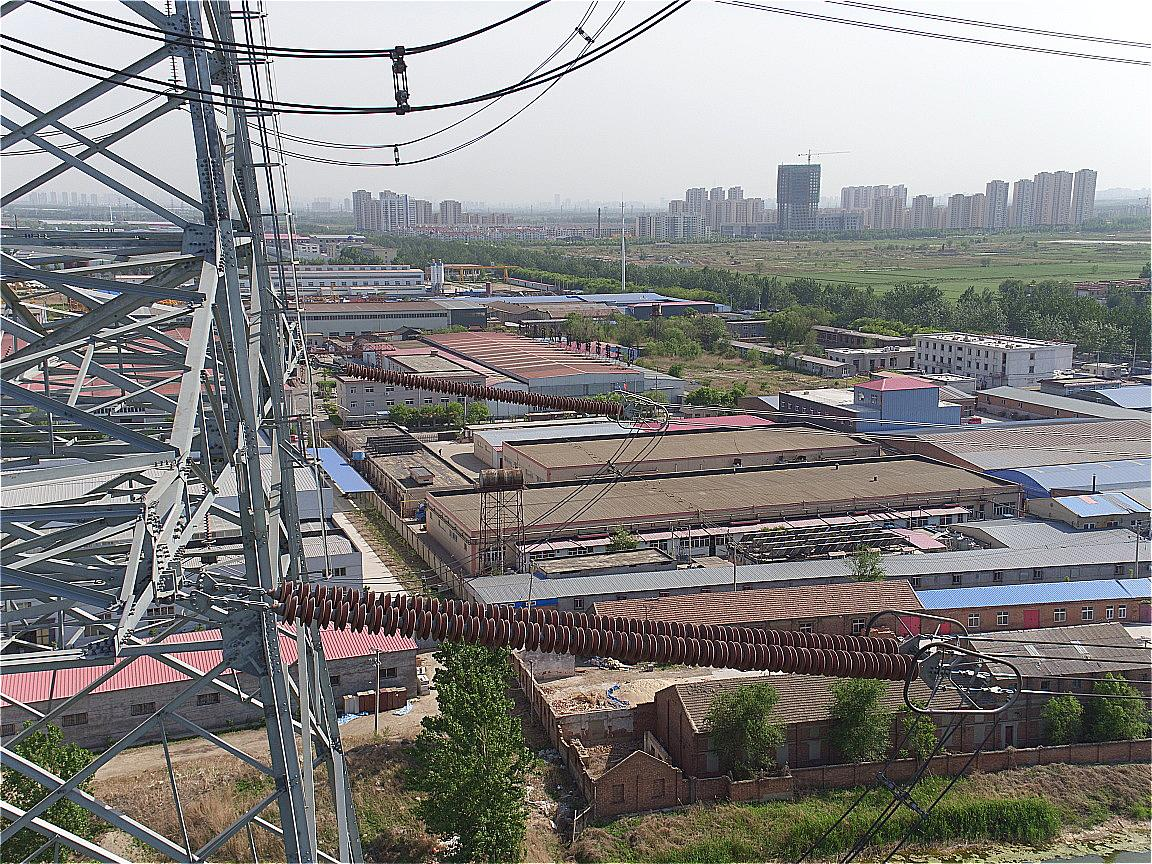insultor2: (261, 564, 913, 690), (328, 347, 600, 419)
